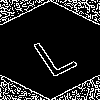L: (25, 25, 79, 78)
